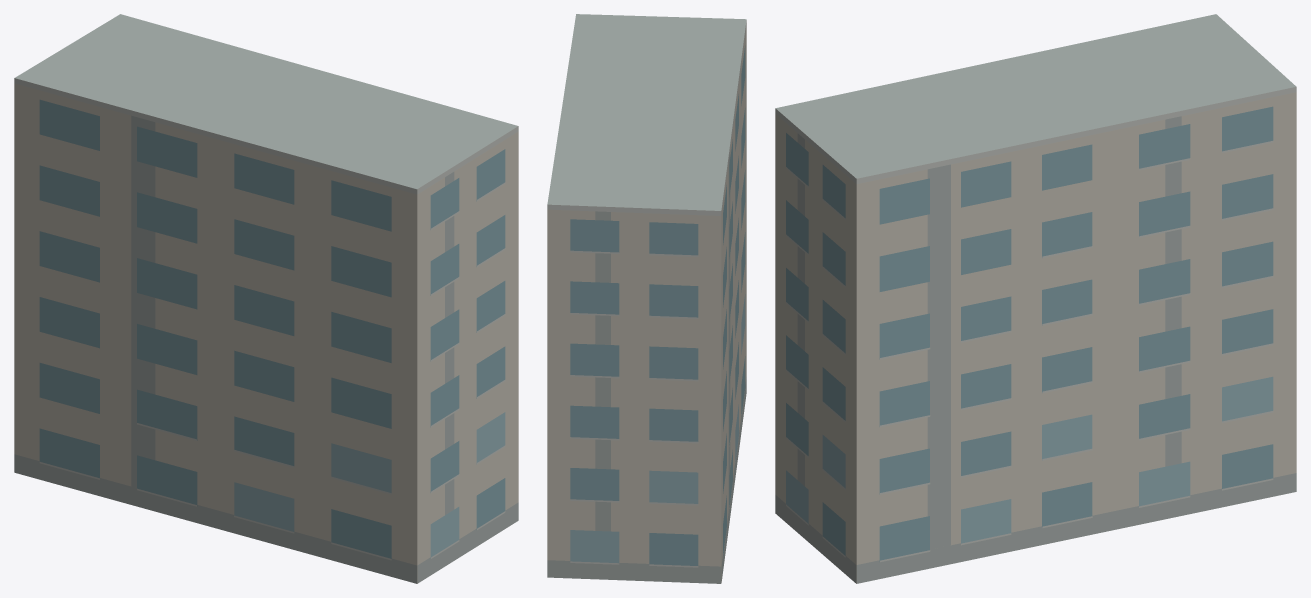
File: survey-upis-32930759.glb
The picture shows the model from 3 angles, left to right: view 1: azimuth 30°, elevation 25°; view 2: azimuth 150°, elevation 25°; view 3: azimuth 270°, elevation 25°; orthographic projection. The views are drawn at different scales.
Visible parts, largest first — view 1: survey-upis-32930759.tmp; view 2: survey-upis-32930759.tmp; view 3: survey-upis-32930759.tmp.
Boxes of the visible parts, x1,y1,x2,y2 form: survey-upis-32930759.tmp: [14, 14, 518, 583]; survey-upis-32930759.tmp: [547, 14, 746, 583]; survey-upis-32930759.tmp: [775, 14, 1296, 583].
Bounding box in the file's own units: 15.89 × 18.2 × 21.23.
